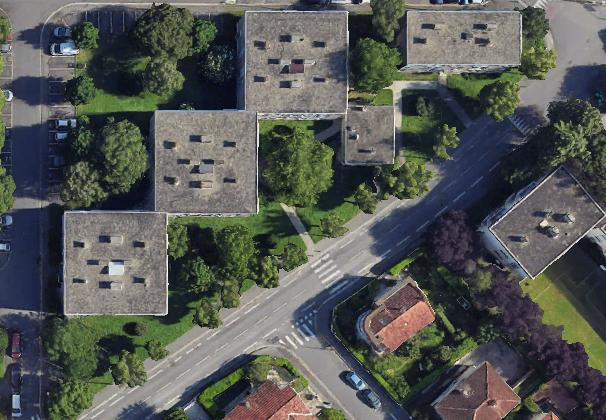immeuble: (471, 156, 606, 288), (237, 11, 346, 118), (150, 109, 257, 217), (63, 211, 166, 314), (400, 10, 521, 72), (343, 104, 393, 164)
maison: (346, 273, 441, 363), (429, 357, 521, 420), (224, 380, 317, 419)
